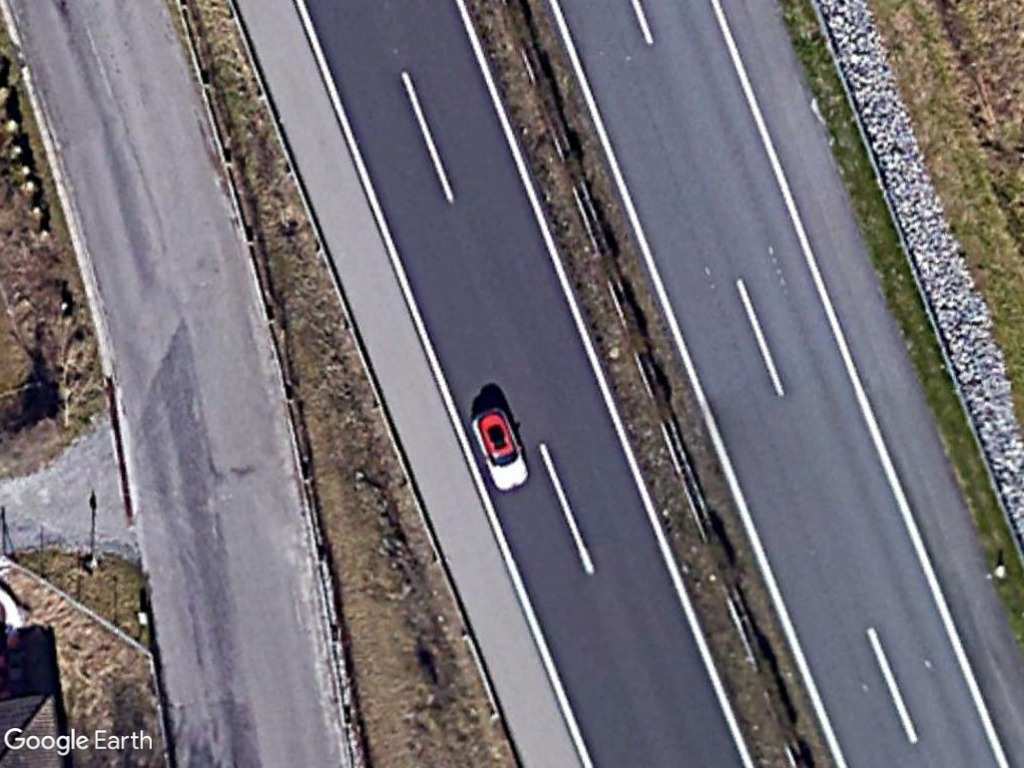car: (468, 406, 535, 496)
